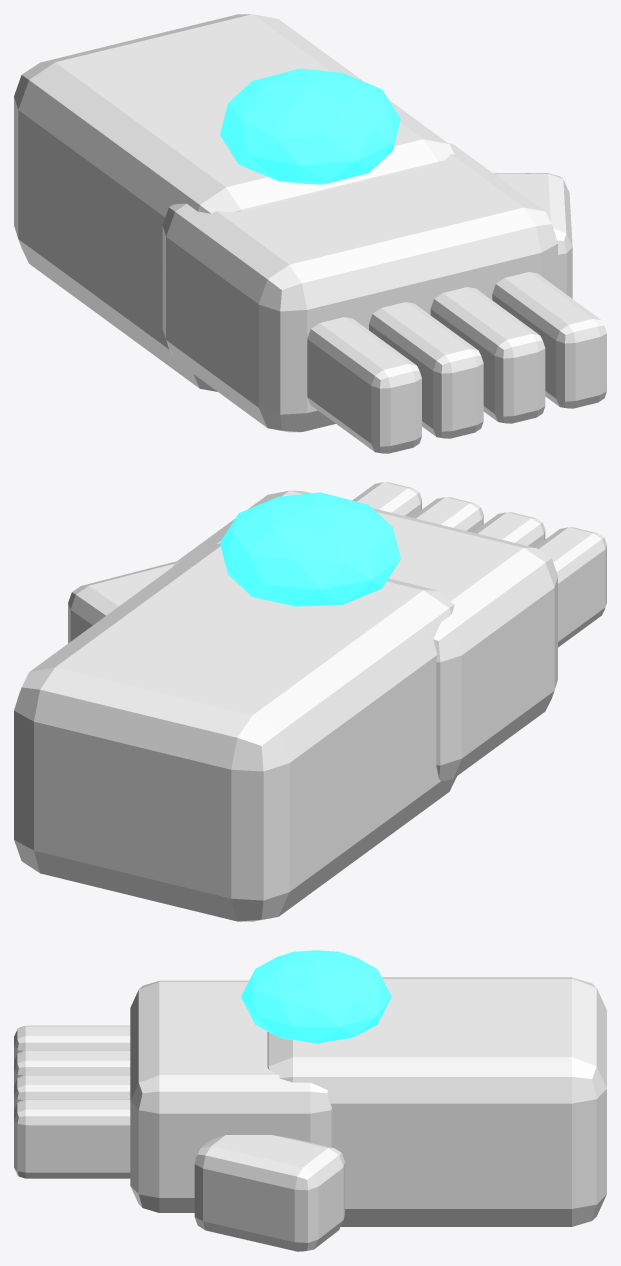
The model's file is SM_AetherGauntlet.glb.
The picture shows the model from 3 angles, top to bottom: view 1: azimuth 30°, elevation 25°; view 2: azimuth 150°, elevation 25°; view 3: azimuth 270°, elevation 25°; orthographic projection. The views are drawn at different scales.
Parts seen in each view (by area): view 1: SM_AetherGauntlet; view 2: SM_AetherGauntlet; view 3: SM_AetherGauntlet.
Part boxes in pixels (<box>): SM_AetherGauntlet: <box>14,14,606,453</box>; SM_AetherGauntlet: <box>14,482,606,921</box>; SM_AetherGauntlet: <box>14,950,606,1251</box>.
Bounding box in the file's own units: 0.3207 × 0.215 × 0.51.
